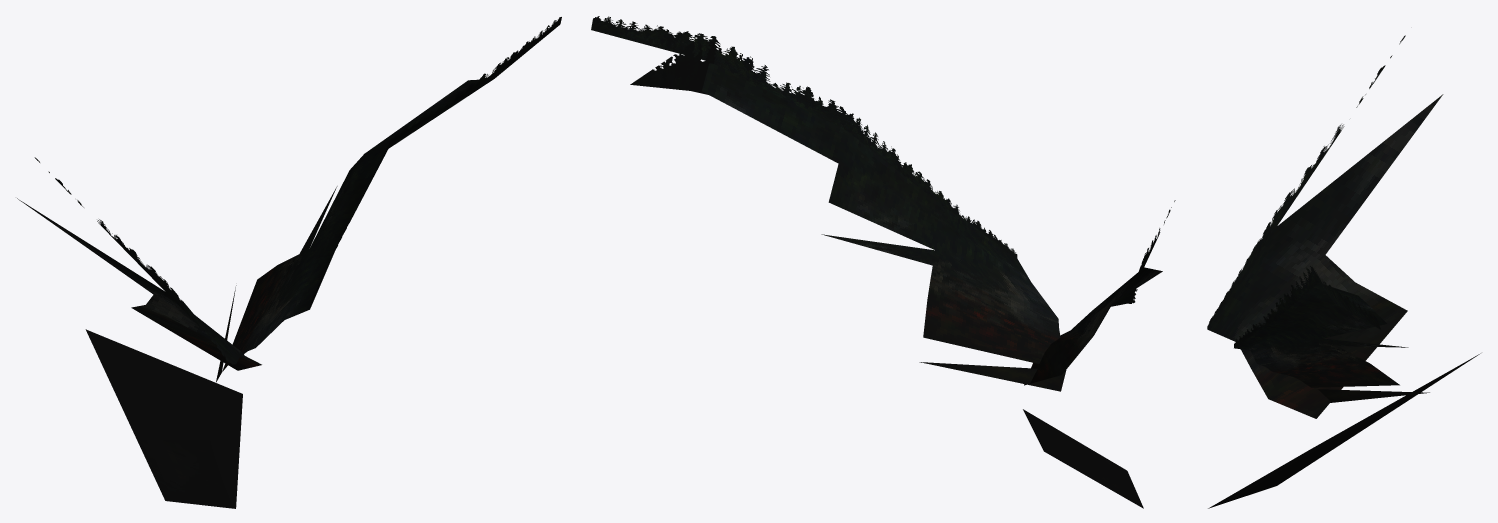
File: cell_-4_-9.gltf
3 renders of one model, left to right at view 1: azimuth 30°, elevation 25°; view 2: azimuth 150°, elevation 25°; view 3: azimuth 270°, elevation 25°, orthographic. The views are drawn at different scales.
Visible parts, largest first — view 1: cell_-4_-9; view 2: cell_-4_-9; view 3: cell_-4_-9.
Boxes of the visible parts, <box> form: cell_-4_-9: <box>17,17,561,508</box>; cell_-4_-9: <box>591,16,1175,508</box>; cell_-4_-9: <box>1207,35,1480,508</box>.
Bounding box in the file's own units: 249 × 159 × 91.58.
2 materials, 2 textured.
